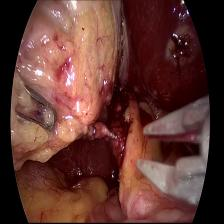Clipper: (131, 92, 210, 220)
Grasper: (14, 75, 62, 140)
